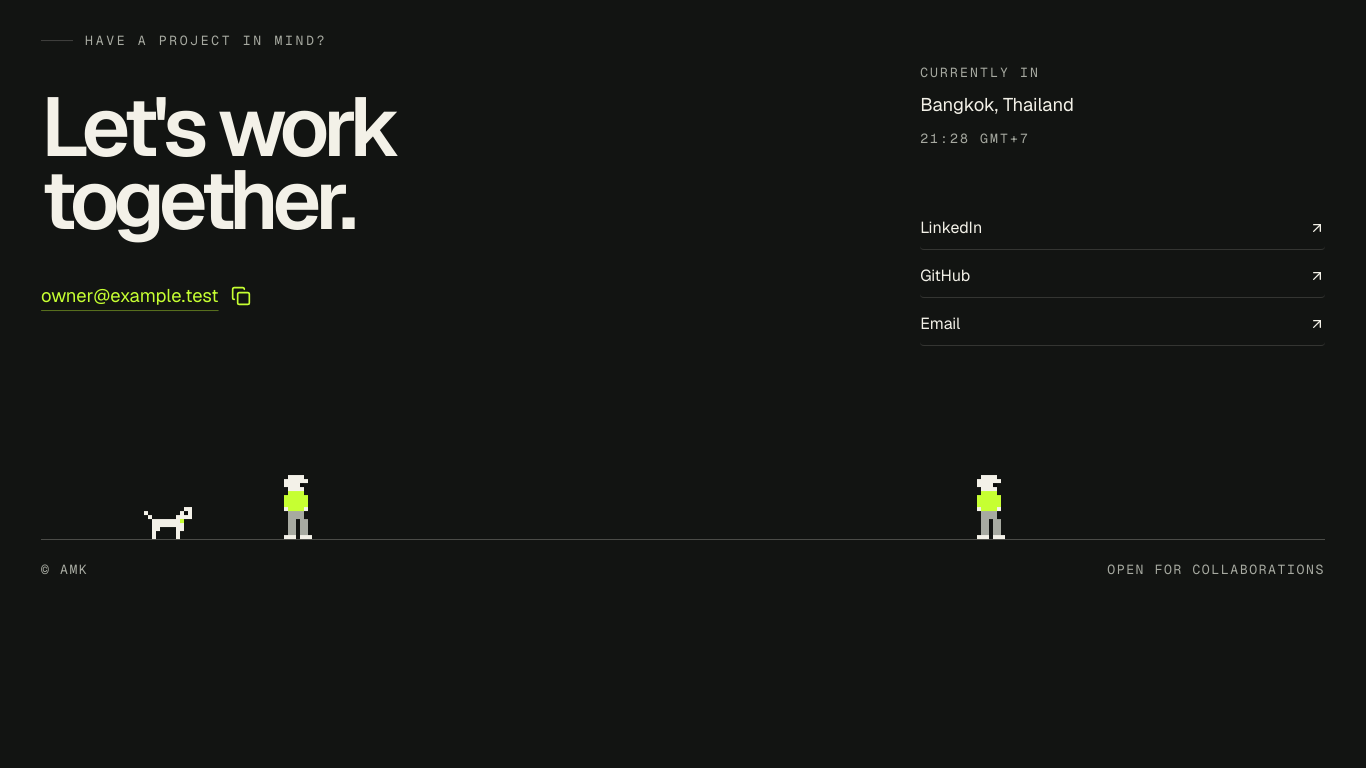
Contact › copies a configured email and announces success
Click the button named "copy email" at (146, 296), box x1=41 y1=274 x2=251 y2=318
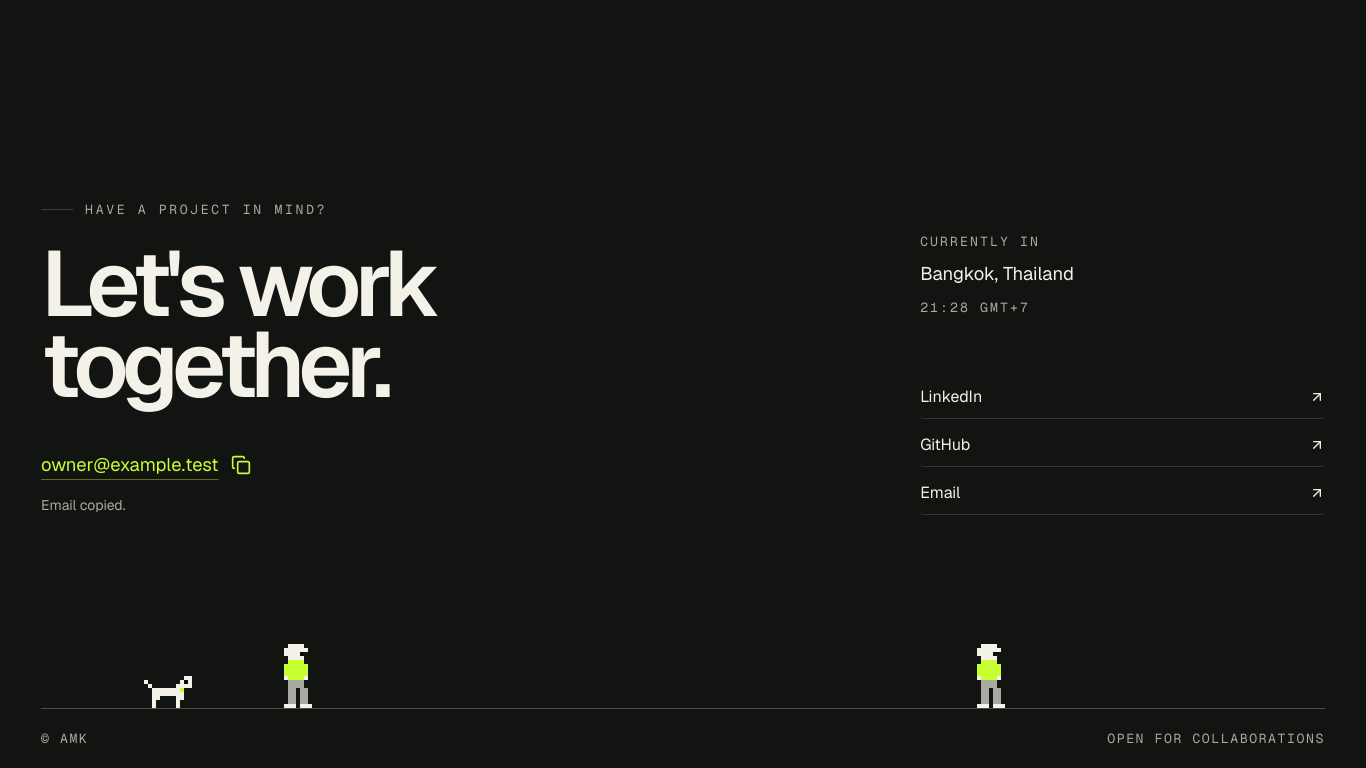
Now the message reads "Email copied.", box x1=41 y1=496 x2=126 y2=514
